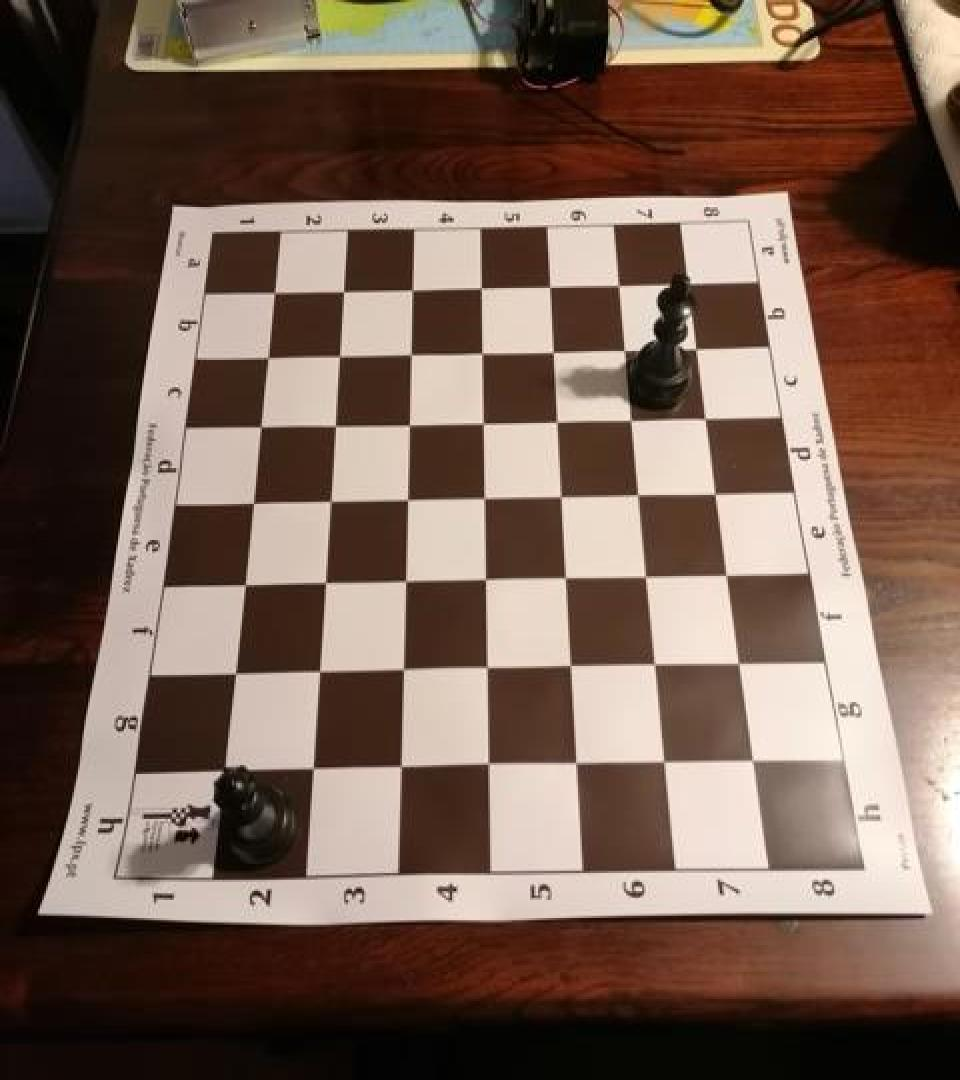xcorner: (301, 652, 333, 689), (217, 653, 249, 690), (603, 268, 635, 304), (534, 269, 566, 305), (465, 270, 497, 306), (397, 271, 429, 307), (328, 272, 360, 308), (260, 274, 292, 310), (680, 331, 712, 367), (609, 332, 641, 368), (538, 333, 570, 369), (466, 334, 498, 370), (395, 335, 427, 371), (324, 336, 356, 372), (253, 338, 285, 374), (690, 400, 722, 436), (616, 402, 648, 438), (541, 402, 573, 438), (467, 403, 499, 439), (393, 404, 425, 440), (319, 405, 351, 441), (245, 406, 277, 442), (701, 475, 733, 511), (623, 476, 655, 512), (546, 477, 578, 513), (468, 478, 500, 514), (391, 479, 423, 515), (314, 480, 346, 516), (236, 482, 268, 518), (712, 557, 744, 593), (631, 558, 663, 594), (550, 559, 582, 595), (469, 560, 501, 596), (389, 562, 421, 598), (308, 562, 340, 598), (227, 564, 259, 600), (725, 647, 757, 683), (640, 648, 672, 684), (555, 649, 587, 685), (471, 650, 503, 686), (386, 652, 418, 688), (739, 746, 771, 782), (650, 746, 682, 782), (561, 747, 593, 783), (472, 748, 504, 784), (383, 749, 415, 785), (295, 750, 327, 786), (206, 752, 238, 788), (671, 267, 703, 302)
